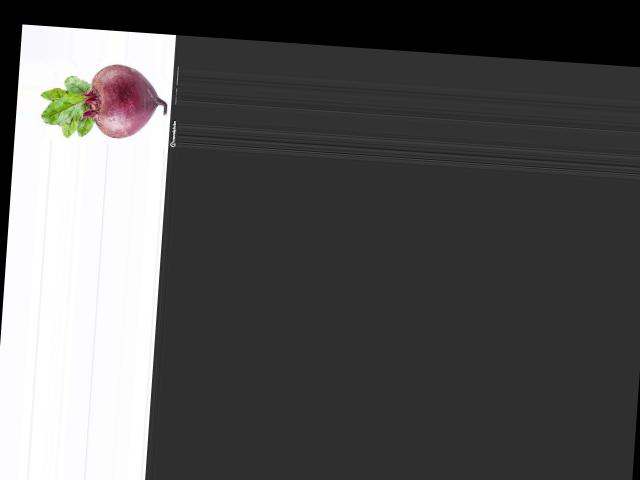beet: (38, 58, 169, 143)
